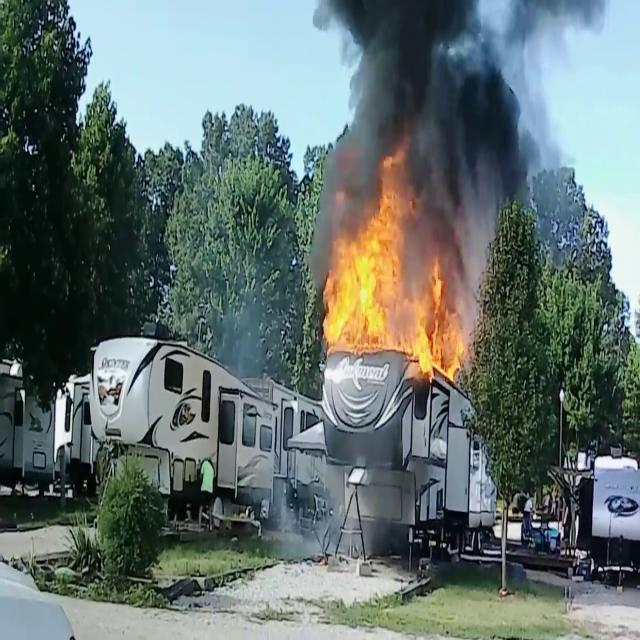Fire: (318, 174, 467, 374)
Smoke: (311, 0, 541, 262)
